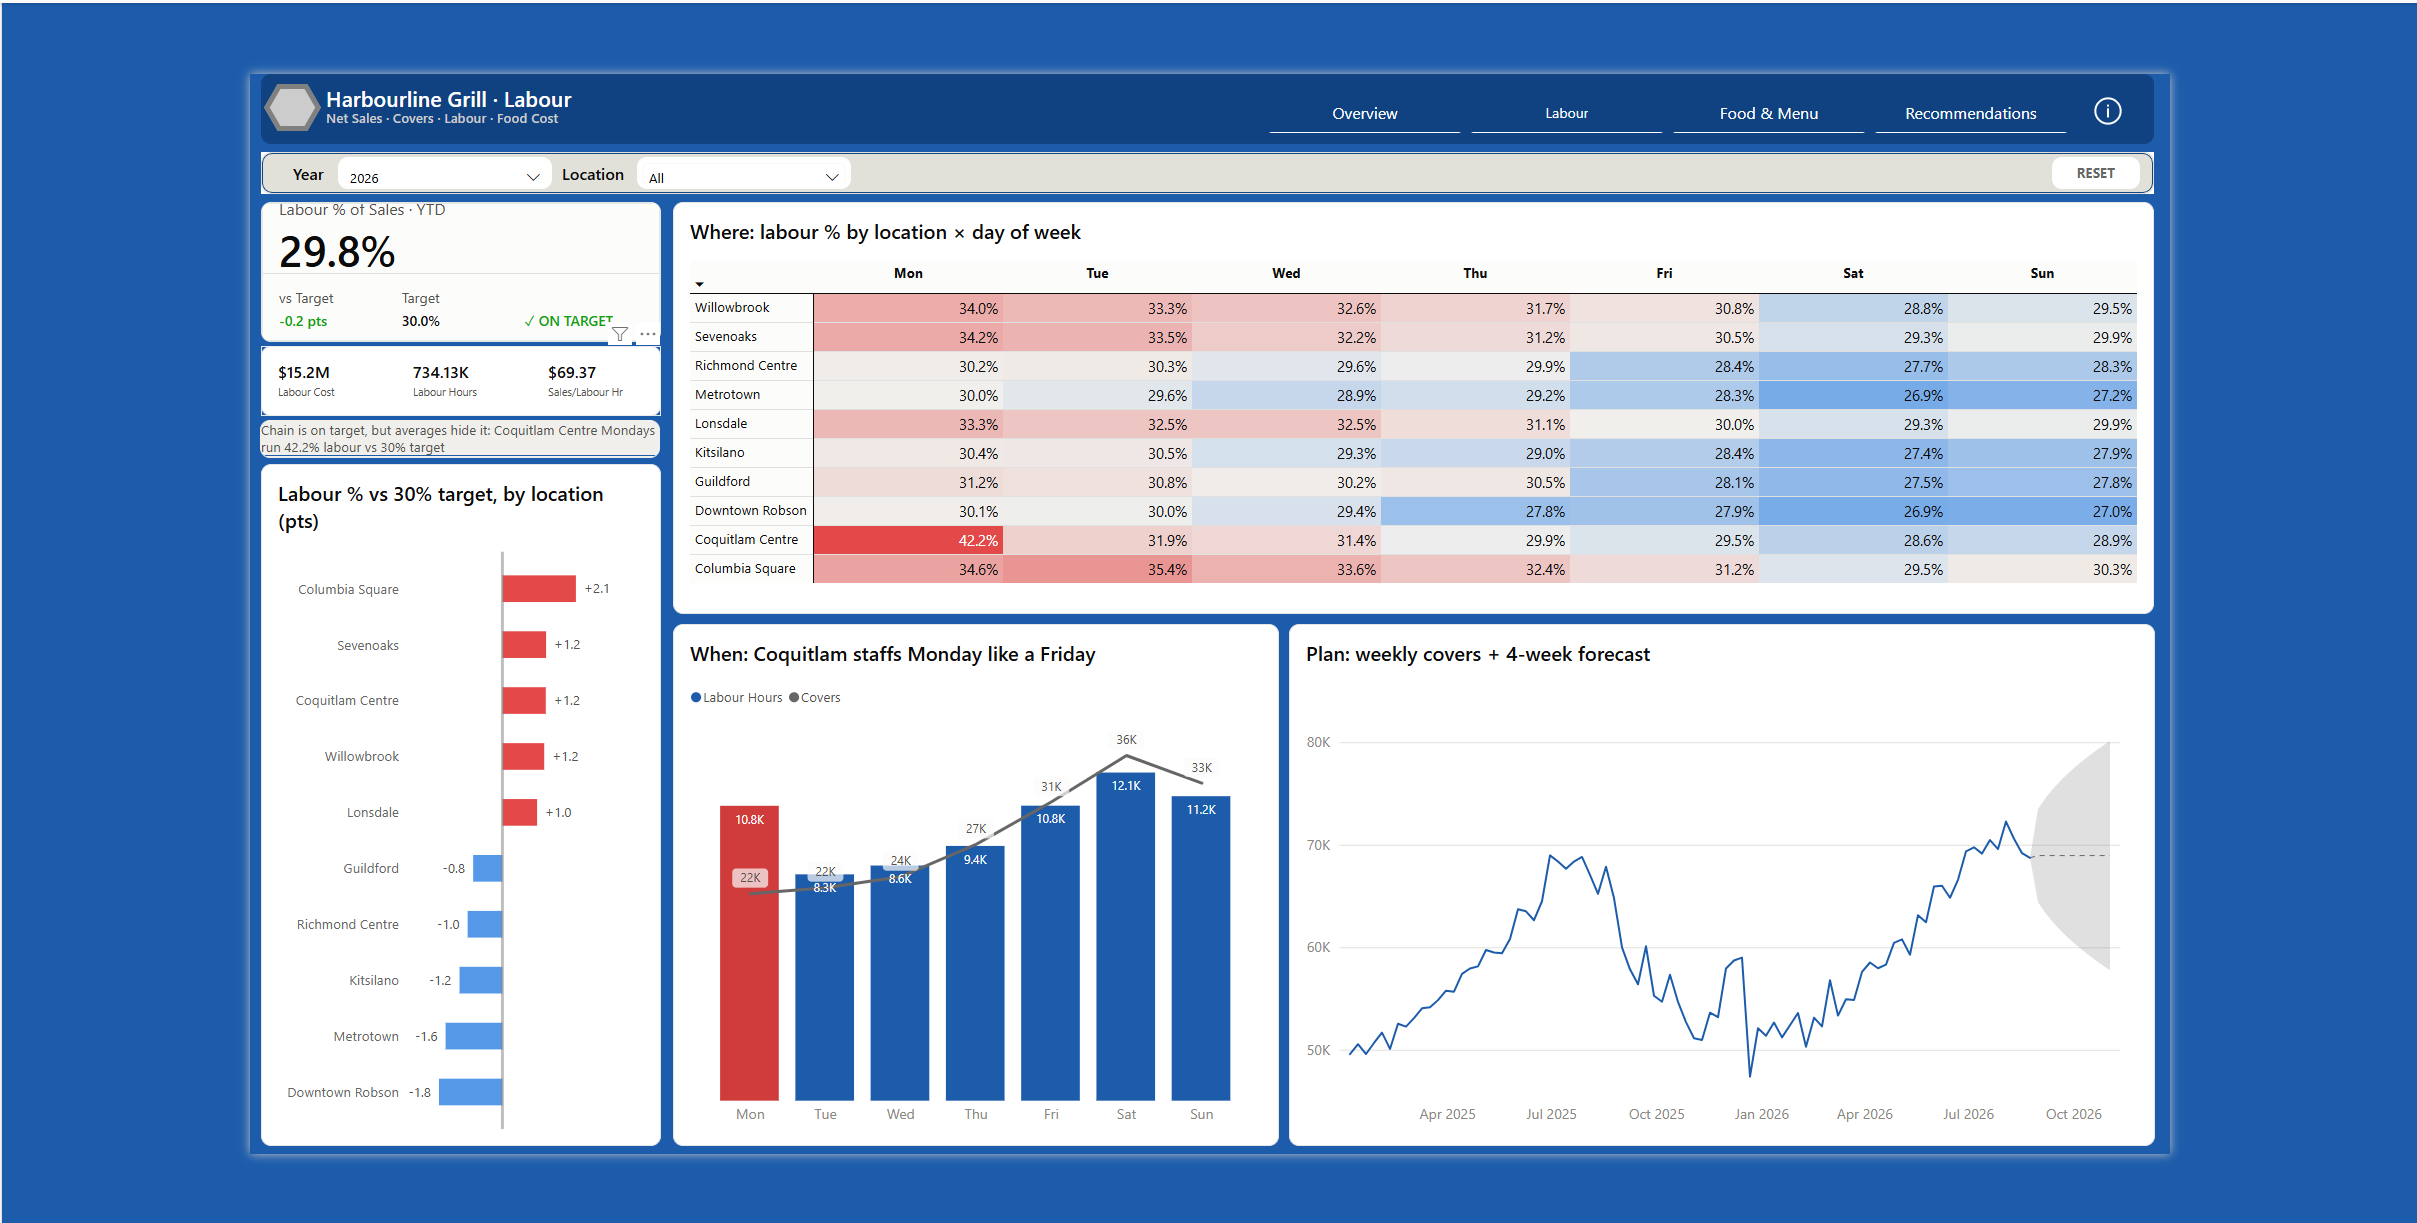

This screenshot's page, from the dashboard's own definition file:
{"tool":"powerbi","page":{"name":"Labour","canvas":[1920,1080],"ordinal":1},"visuals":[{"type":"shape","title":"Harbourline Grill · Overview","box":[10.8,0,1893.5,69.7],"z":0,"group":"g2"},{"type":"shape","box":[10.8,77.9,1892.9,42.2],"z":0,"group":"g1"},{"type":"group","id":"g1","title":"Sub header","box":[10.8,77.9,1892.9,42.2],"z":0},{"type":"group","id":"g2","title":"Header","box":[10.8,0,1893.5,69.7],"z":1000},{"type":"textbox","title":"Harbourline Grill · Labour","box":[75.6,9.8,300.5,29.5],"z":1000,"group":"g2"},{"type":"textbox","title":"Year","box":[43.3,88.7,44.4,20.6],"z":1000,"group":"g1"},{"type":"textbox","title":"Net Sales · Covers · Labour · Food Cost","box":[75.6,35.4,300.5,29.5],"z":2000,"group":"g2"},{"type":"textbox","title":"Location","box":[311.7,88.7,64.9,20.6],"z":2000,"group":"g1"},{"type":"cardVisual","fields":{"Data":["_Measures.Labour %"]},"box":[10.8,128,400,140],"z":2000},{"type":"pageNavigator","box":[1017.4,18.7,800.4,40.3],"z":3000,"group":"g2"},{"type":"slicer","fields":{"Values":["DIM_DATE.YEAR"]},"box":[87.6,83.3,214.3,31.4],"z":3000,"group":"g1"},{"type":"cardVisual","fields":{"Data":["_Measures.Labour Cost","_Measures.Labour Hours","_Measures.Sales per Labour Hour"]},"box":[10.8,272,400,70],"z":3000},{"type":"actionButton","box":[1825.7,14.7,63.8,44.2],"z":4000,"group":"g2"},{"type":"slicer","fields":{"Values":["DIM_LOCATION.LOCATION_NAME"]},"box":[386.4,83.3,214,31.4],"z":4000,"group":"g1"},{"type":"textbox","box":[9.8,345.5,400.5,38.3],"z":4000},{"type":"actionButton","box":[1801.9,83.1,88,31.3],"z":5000,"group":"g1"},{"type":"clusteredBarChart","title":"Labour % vs 30% target, by location (pts)","fields":{"Category":["DIM_LOCATION.LOCATION_NAME"],"Y":["_Measures.Labour vs Target pts"]},"box":[10.8,389.7,400.5,682.2],"z":5000},{"type":"pivotTable","title":"Where: labour % by location × day of week","fields":{"Columns":["DIM_DATE.DAY_OF_WEEK"],"Rows":["DIM_LOCATION.LOCATION_NAME"],"Values":["_Measures.HM Labour %"]},"box":[422.5,128.5,1481.7,411.3],"z":6000},{"type":"lineClusteredColumnComboChart","title":"When: Coquitlam staffs Monday like a Friday","fields":{"Category":["DIM_DATE.DAY_OF_WEEK"],"Y":["Sum(FACT_LABOUR_HOURLY.LABOUR_HOURS)"],"Y2":["Sum(FACT_LABOUR_HOURLY.COVERS)"]},"box":[422.5,549.9,606.2,521.7],"z":7000},{"type":"shape","box":[14.5,9.6,56.6,47],"z":8000},{"type":"lineChart","title":"Plan: weekly covers + 4-week forecast","fields":{"Category":["DIM_DATE.WEEK_START"],"Y":["Sum(FACT_LABOUR_HOURLY.COVERS)"]},"box":[1038.9,549.9,866.5,521.7],"z":9000}]}

Visuals, with their boxes on the page's 1920x1080 design canvas (x1, y1, x2, y2). These are canvas units, not pixel positions in the 2417x1223 screenshot, which may show the page scaled, cropped or inside an application window:
"Harbourline Grill · Overview" shape: bbox=(11, 0, 1904, 70)
shape: bbox=(11, 78, 1904, 120)
"Sub header" group: bbox=(11, 78, 1904, 120)
"Header" group: bbox=(11, 0, 1904, 70)
"Harbourline Grill · Labour" textbox: bbox=(76, 10, 376, 39)
"Year" textbox: bbox=(43, 89, 88, 109)
"Net Sales · Covers · Labour · Food Cost" textbox: bbox=(76, 35, 376, 65)
"Location" textbox: bbox=(312, 89, 377, 109)
cardVisual - _Measures.Labour %: bbox=(11, 128, 411, 268)
pageNavigator: bbox=(1017, 19, 1818, 59)
slicer - DIM_DATE.YEAR: bbox=(88, 83, 302, 115)
cardVisual - _Measures.Labour Cost x _Measures.Labour Hours: bbox=(11, 272, 411, 342)
actionButton: bbox=(1826, 15, 1890, 59)
slicer - DIM_LOCATION.LOCATION_NAME: bbox=(386, 83, 600, 115)
textbox: bbox=(10, 346, 410, 384)
actionButton: bbox=(1802, 83, 1890, 114)
"Labour % vs 30% target, by location (pts)" clusteredBarChart: bbox=(11, 390, 411, 1072)
"Where: labour % by location × day of week" pivotTable: bbox=(422, 128, 1904, 540)
"When: Coquitlam staffs Monday like a Friday" lineClusteredColumnComboChart: bbox=(422, 550, 1029, 1072)
shape: bbox=(14, 10, 71, 57)
"Plan: weekly covers + 4-week forecast" lineChart: bbox=(1039, 550, 1905, 1072)
